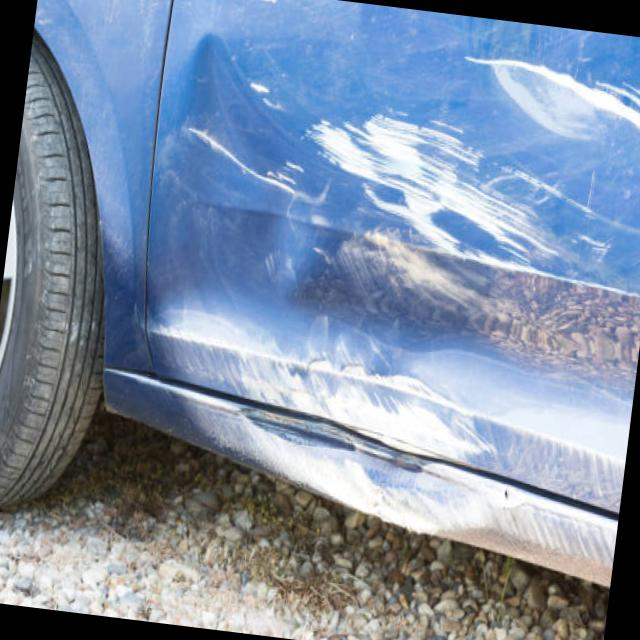Dent: (159, 189, 521, 534)
Scratch: (304, 114, 529, 263), (241, 355, 483, 450), (482, 168, 640, 292), (482, 269, 640, 380), (465, 56, 640, 140), (318, 237, 487, 312), (179, 128, 329, 205), (218, 65, 296, 133), (241, 0, 283, 12)
